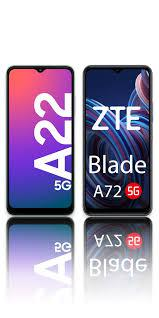Smartphone: (7, 66, 74, 217), (86, 66, 151, 214), (6, 220, 76, 318), (82, 217, 151, 311)
